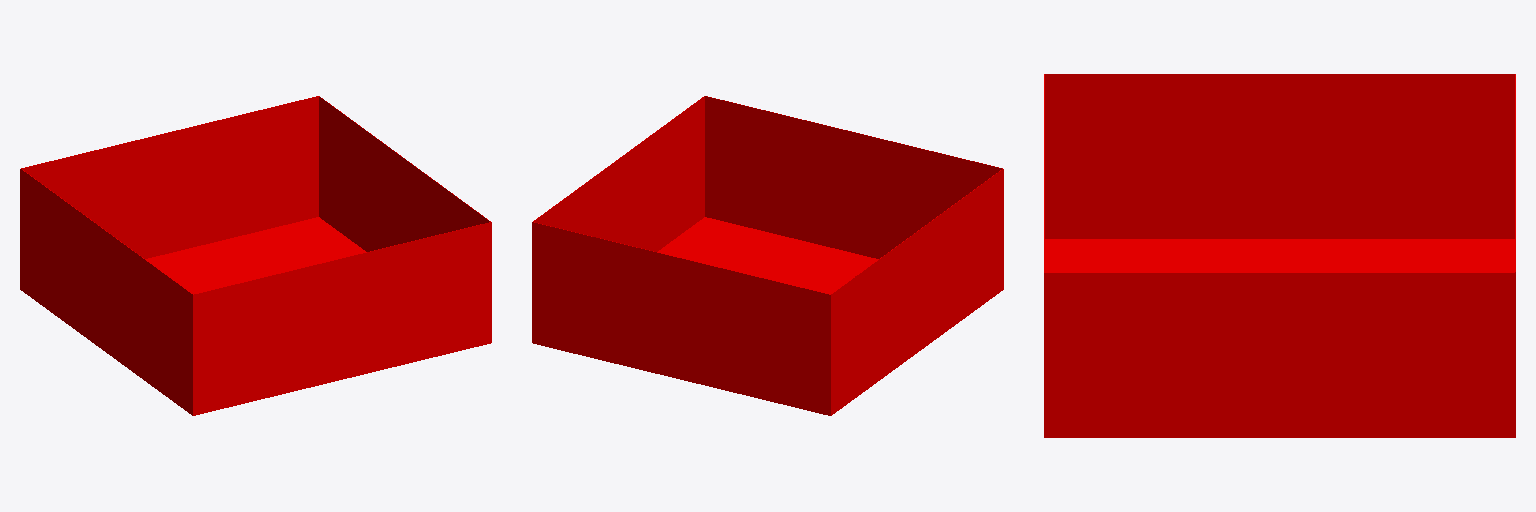
robot.urdf — square.urdf:
<?xml version="1.0" ?>
<robot name="square.urdf">
  <link name="baseLink">
    <contact>
      <lateral_friction value="1.0"/>
      <inertia_scaling value="3.0"/>
    </contact>
    <inertial>
      <origin rpy="0 0 0" xyz="0 0 0"/>
       <mass value=".1"/>
       <inertia ixx="1" ixy="0" ixz="0" iyy="1" iyz="0" izz="1"/>
    </inertial>
    <visual>
      <origin rpy="0 0 0" xyz="0 0 0"/>
      <geometry>
        <mesh filename="16.stl" scale="1 1 1" />
      </geometry>
      <material name="red">
        <color rgba="1 0 0 1"/>
      </material>
    </visual>
    <collision>
      <origin rpy="0 0 0" xyz="0 0 0"/>
      <geometry>
        <mesh filename="16_convex.obj" scale="1 1 1" />
      </geometry>
    </collision>
  </link>
</robot>

--- Facts derived from the render (not from the file) ---
Views: 3 orthographic renders of the robot side by side, from view 1: azimuth 30°, elevation 25°; view 2: azimuth 150°, elevation 25°; view 3: azimuth 270°, elevation 25°.
Model square.urdf with 1 links and 0 joints (none), rooted at baseLink, posed every joint at zero.
Visible links, largest first — view 1: baseLink; view 2: baseLink; view 3: baseLink.
Boxes of the visible links, x1,y1,x2,y2 form: baseLink: (20,96,491,415); baseLink: (532,96,1003,415); baseLink: (1044,74,1515,437).
Bounding box of the posed robot: 0.7009 × 0.7018 × 0.2722 m (x, y, z).
Meshes: 1 distinct files referenced, 1 mesh visuals loaded (1 binary STL).